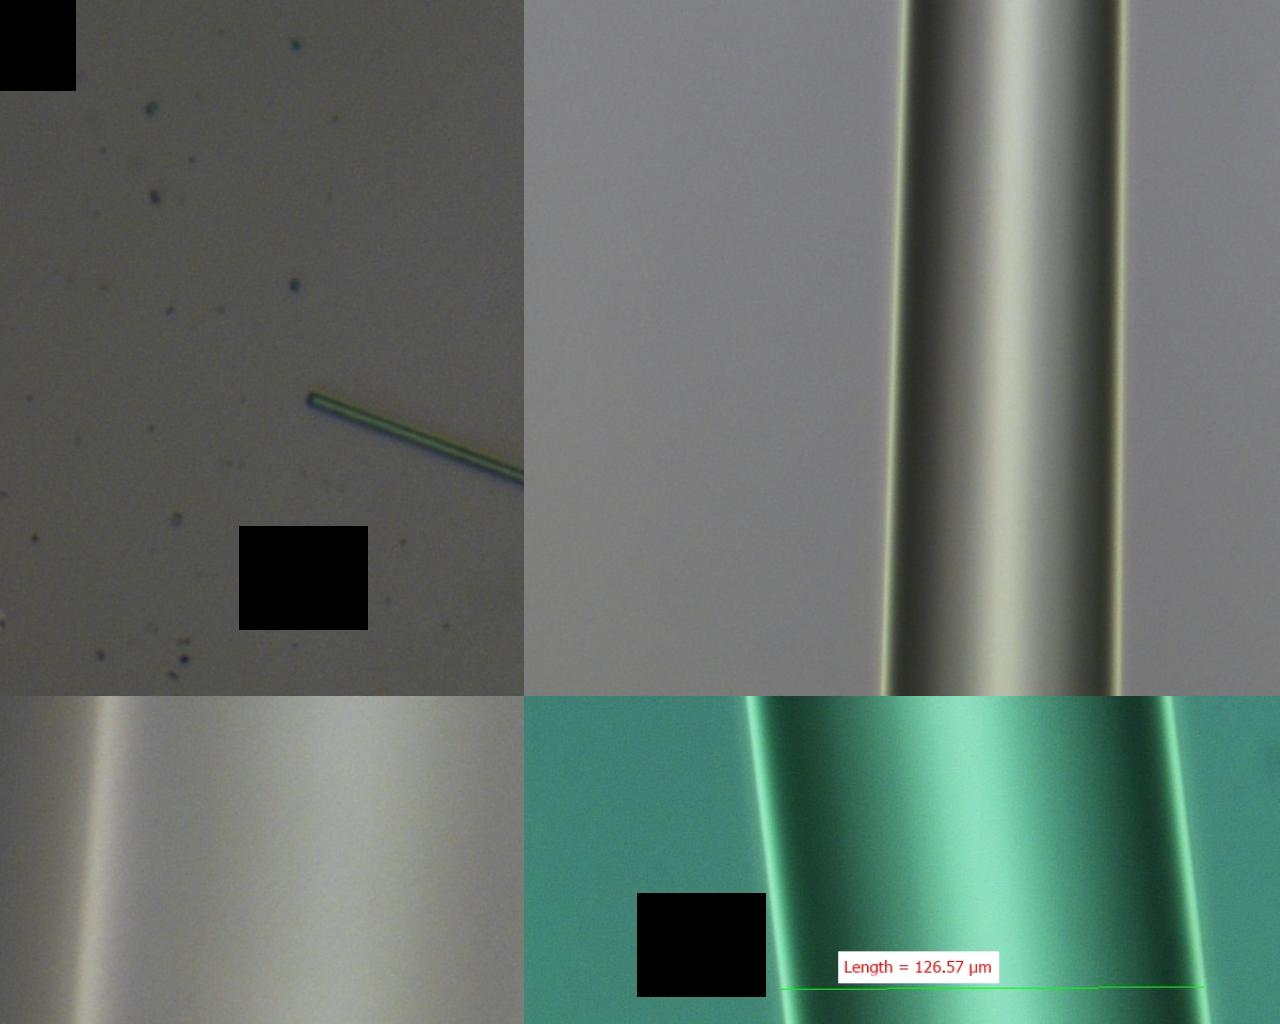fiber: (279, 368, 604, 1024), (782, 368, 1280, 576), (533, 0, 677, 368), (803, 0, 818, 368)
